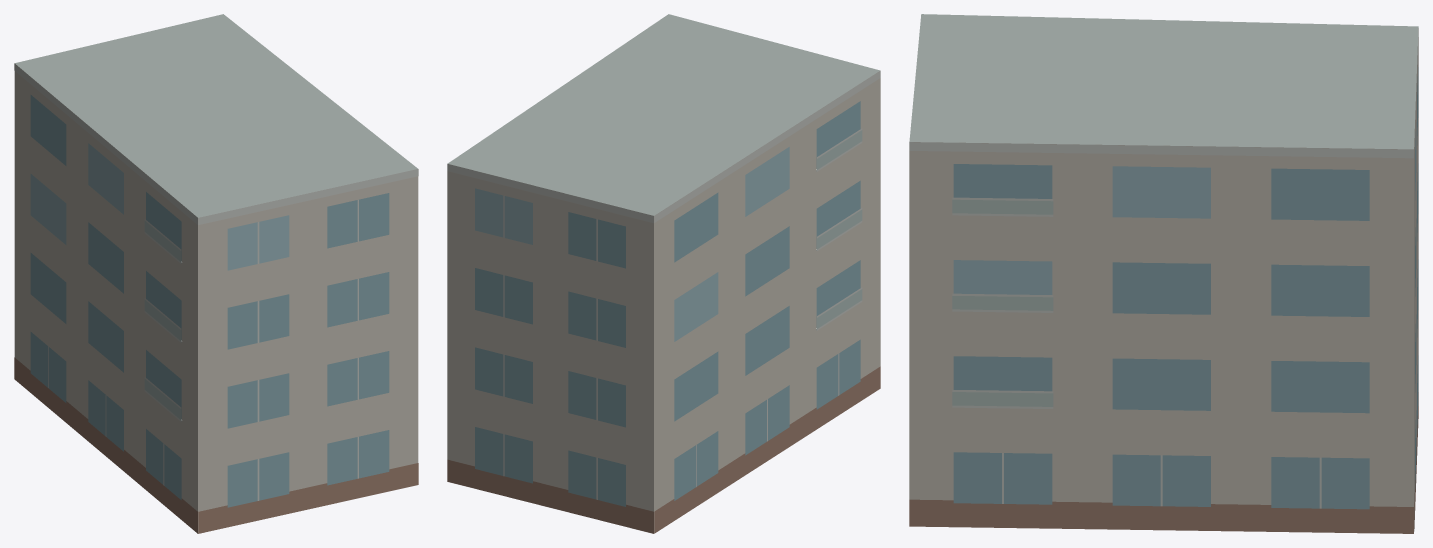
Rendered from survey-upis-32949601.glb.
3 renders of one model, left to right at view 1: azimuth 30°, elevation 25°; view 2: azimuth 150°, elevation 25°; view 3: azimuth 270°, elevation 25°, orthographic. The views are drawn at different scales.
Parts seen in each view (by area): view 1: survey-upis-32949601.tmp; view 2: survey-upis-32949601.tmp; view 3: survey-upis-32949601.tmp.
Part boxes in pixels (box(x1,y1,x2,y2)): survey-upis-32949601.tmp: box(14, 14, 418, 533); survey-upis-32949601.tmp: box(447, 14, 880, 533); survey-upis-32949601.tmp: box(909, 14, 1418, 533).
Size of the model in its own units: 7.94 by 10.5 by 12.61.
